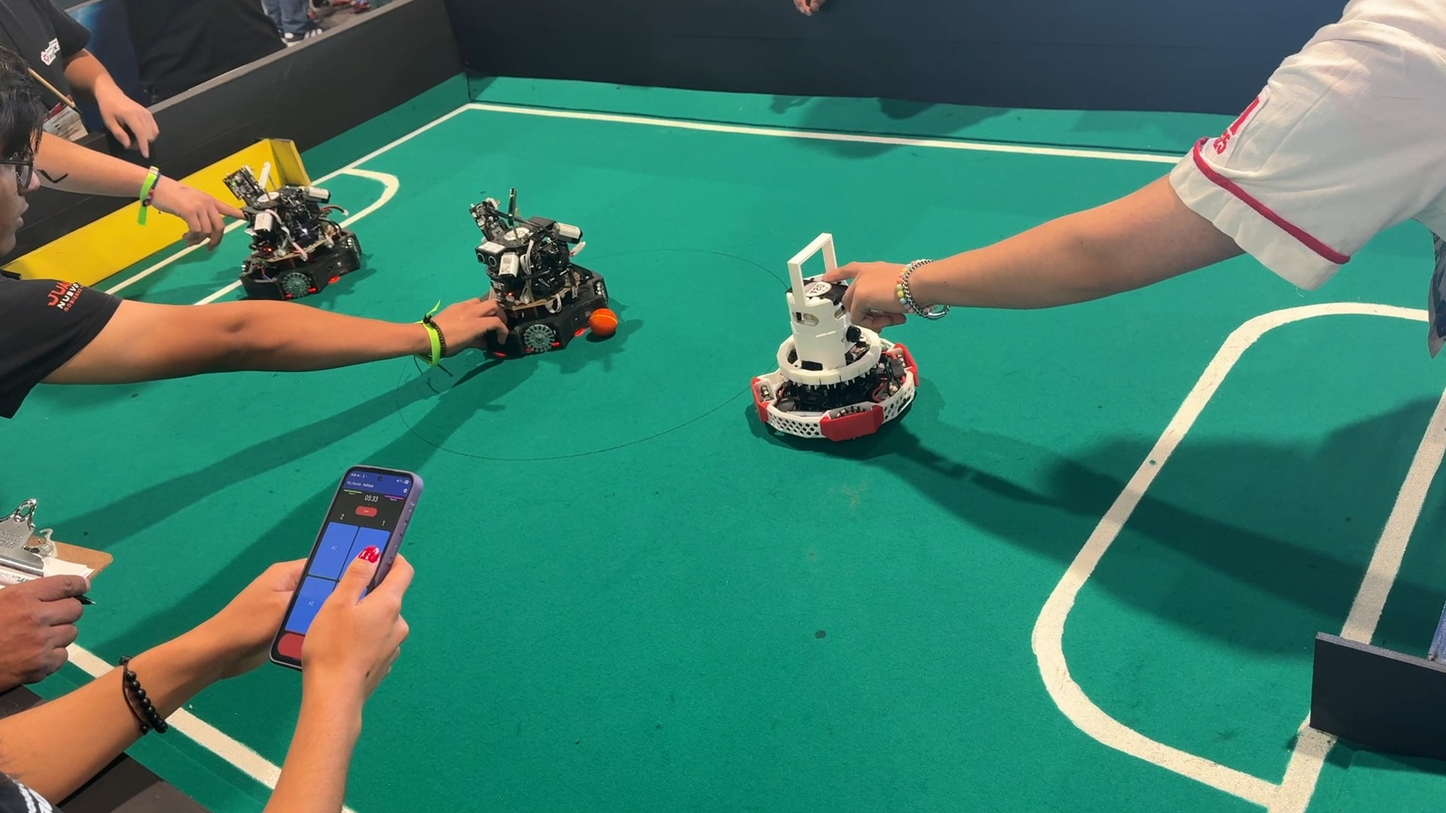Robot: (739, 223, 925, 468), (447, 191, 618, 366), (216, 145, 376, 308)
pelota: (592, 301, 624, 345)
